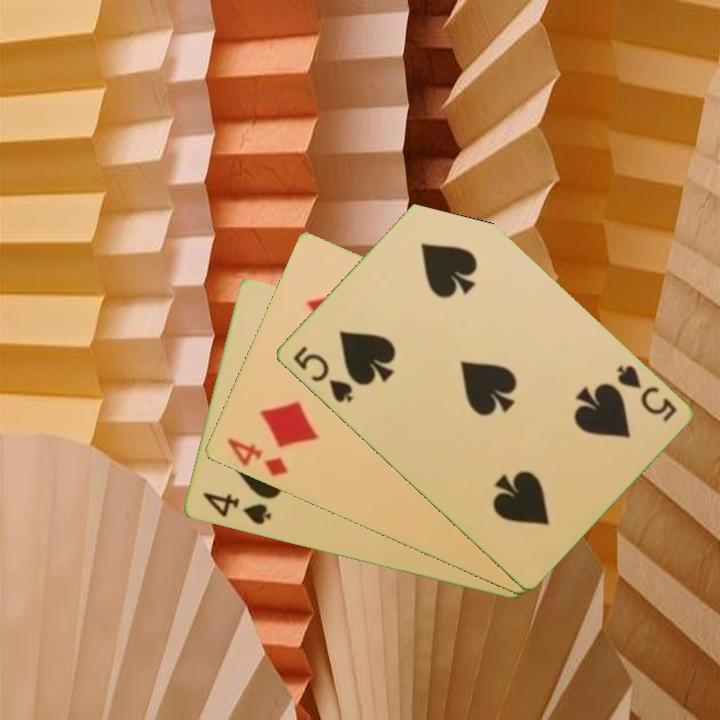4d: (223, 435, 290, 480)
4s: (199, 489, 274, 528)
5s: (612, 361, 680, 425), (288, 342, 355, 406)
